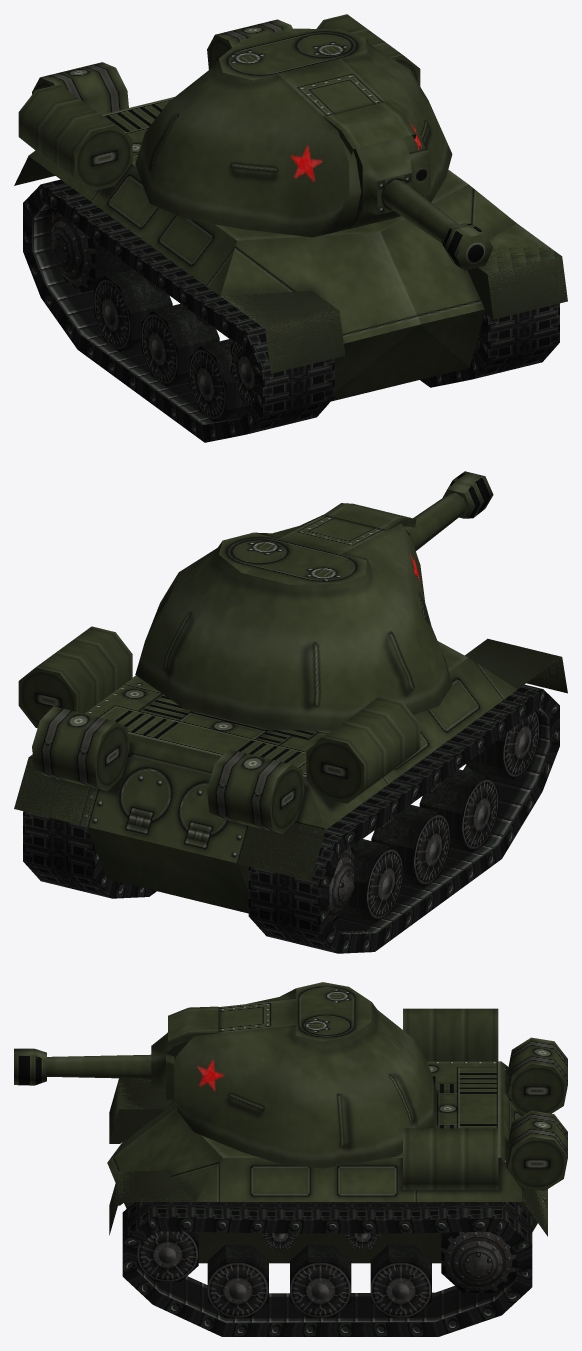
File: IS-3_SD_Model_Track.FBX
The picture shows the model from 3 angles, top to bottom: view 1: azimuth 30°, elevation 25°; view 2: azimuth 150°, elevation 25°; view 3: azimuth 270°, elevation 25°; orthographic projection. The views are drawn at different scales.
Visible parts, largest first — view 1: Body, Turret, RightTrack, Cannon, LeftTrack; view 2: Body, Turret, RightTrack, LeftTrack, Cannon; view 3: Body, LeftTrack, Turret, Cannon.
Boxes of the visible parts, x1=… form: Body: x1=14, y1=14, x2=567, y2=401; Turret: x1=135, y1=28, x2=452, y2=237; RightTrack: x1=23, y1=179, x2=334, y2=442; Cannon: x1=349, y1=137, x2=493, y2=270; LeftTrack: x1=420, y1=303, x2=559, y2=387; Body: x1=14, y1=626, x2=567, y2=913; Turret: x1=135, y1=503, x2=452, y2=730; RightTrack: x1=248, y1=684, x2=559, y2=953; LeftTrack: x1=23, y1=811, x2=156, y2=898; Cannon: x1=403, y1=471, x2=493, y2=550; Body: x1=107, y1=1008, x2=567, y2=1263; LeftTrack: x1=122, y1=1202, x2=532, y2=1336; Turret: x1=168, y1=982, x2=436, y2=1168; Cannon: x1=14, y1=1032, x2=185, y2=1103.
Size of the model in its own units: 1.32 by 1.13 by 2.15.
Materials: 2 (2 with a texture image).
